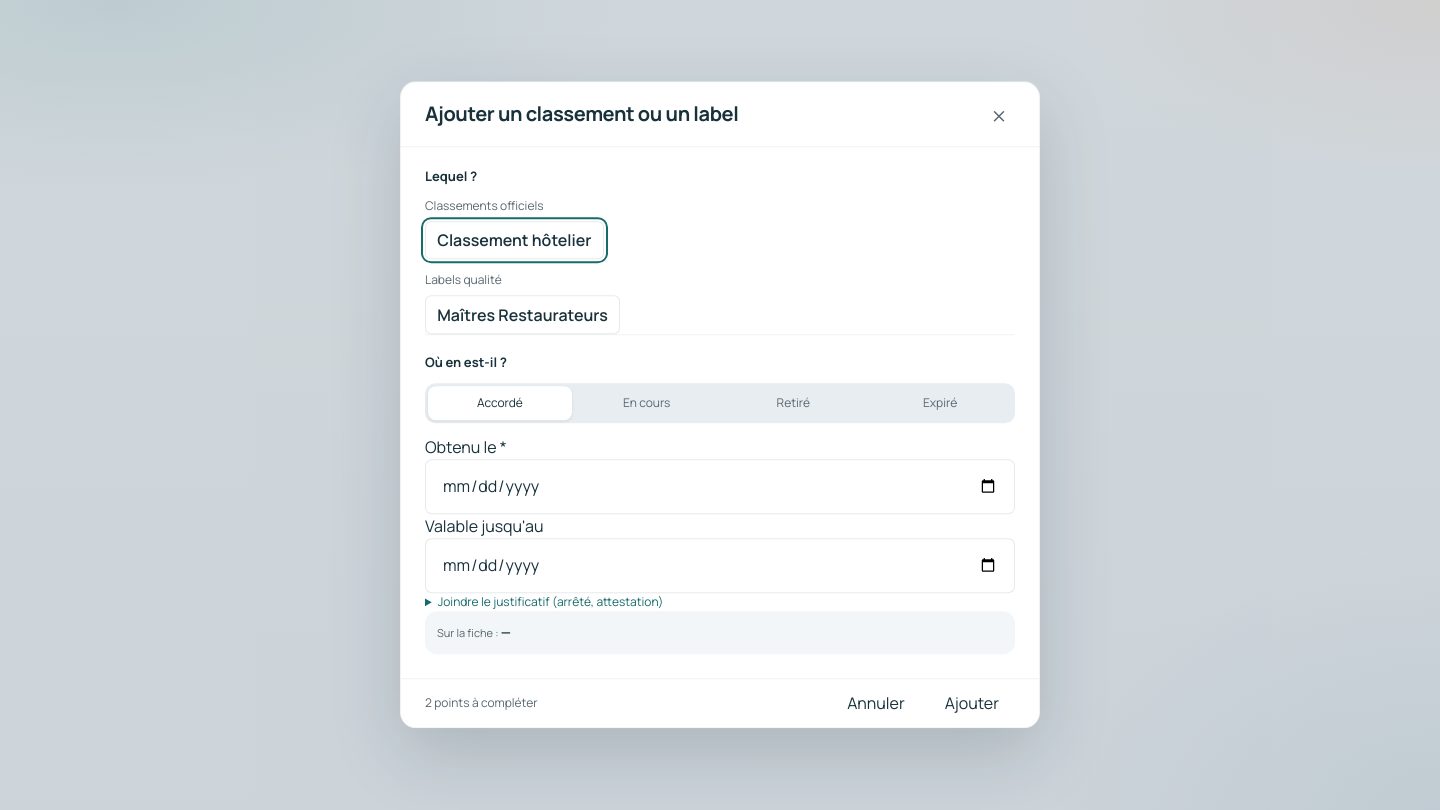
ClassificationEditModal › shows a value selector with levels for a star scheme
What coordinates should you click on to do the following:
click the button "Classement hôtelier"
I would click on:
 (514, 240)
Its box is [425,221,604,260].
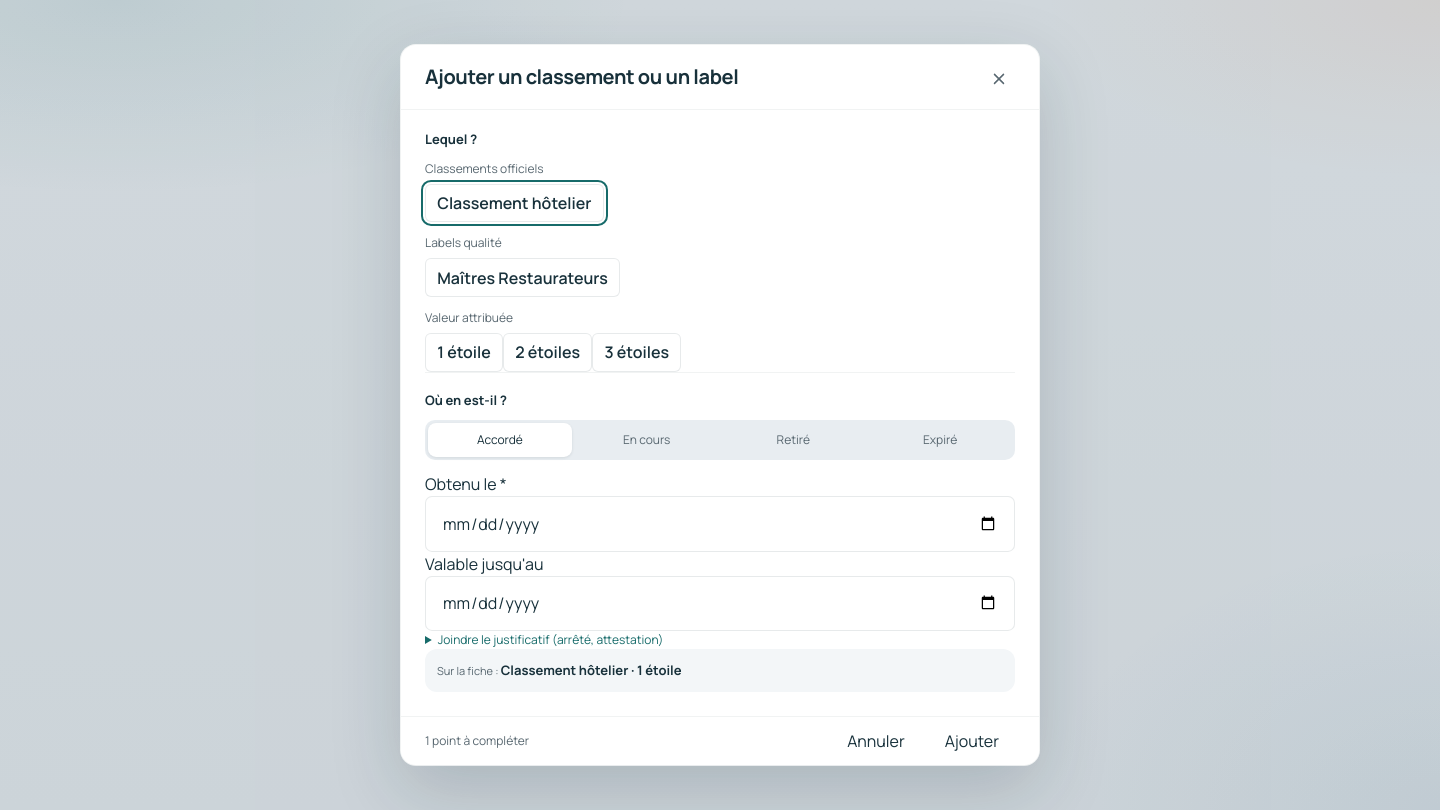
Check: the button "3 étoiles" is shown, box [592,333,681,372]
